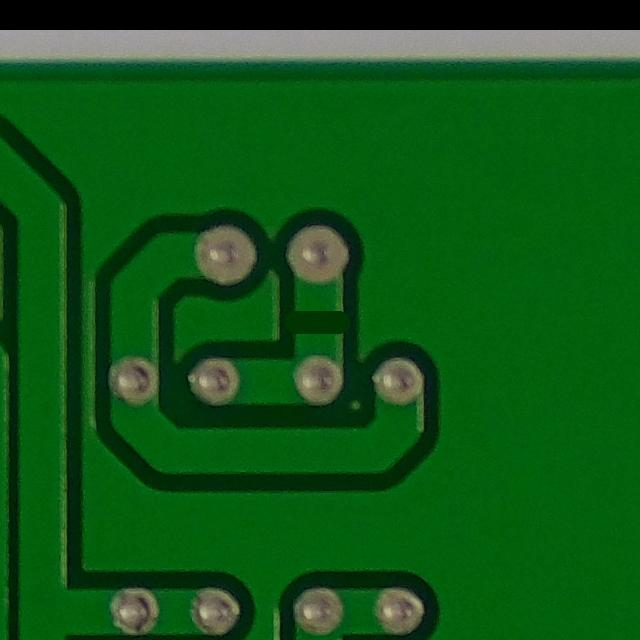open_circuit: (287, 295, 354, 345)
